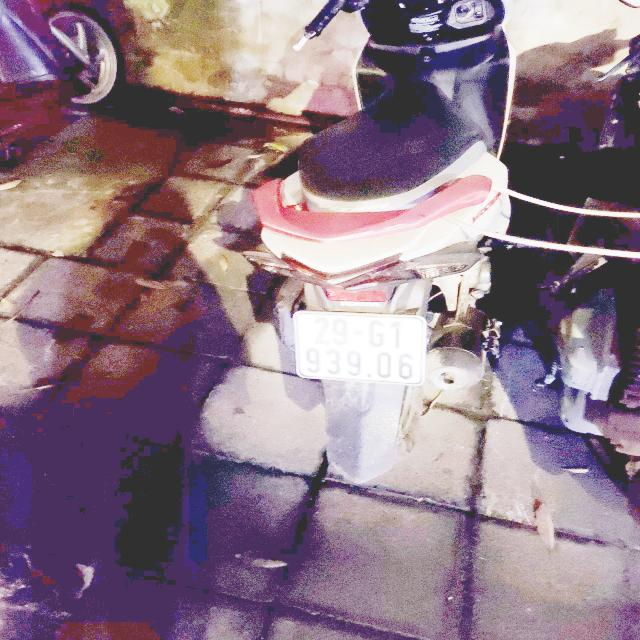license_plate: (287, 307, 435, 391)
